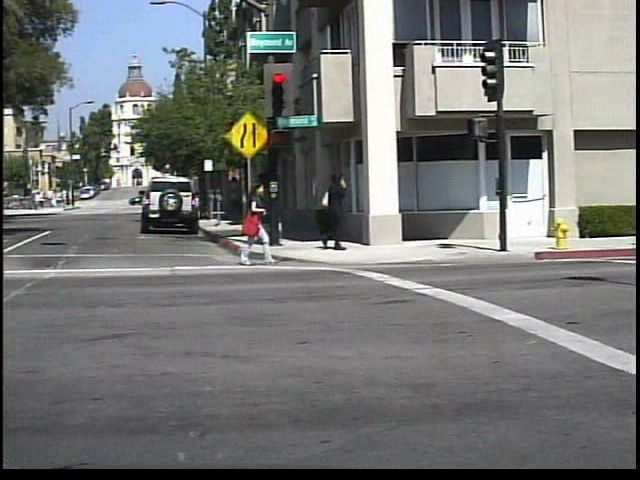person: (239, 177, 289, 268), (319, 168, 360, 254)
